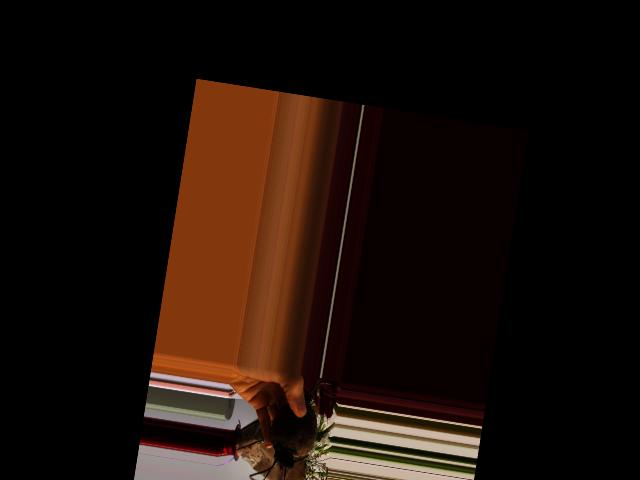beet: (248, 373, 331, 480)
